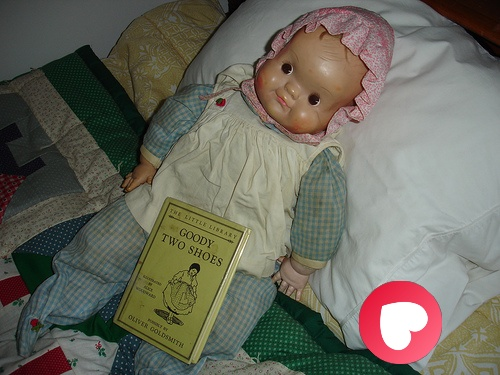love: (359, 281, 442, 364)
